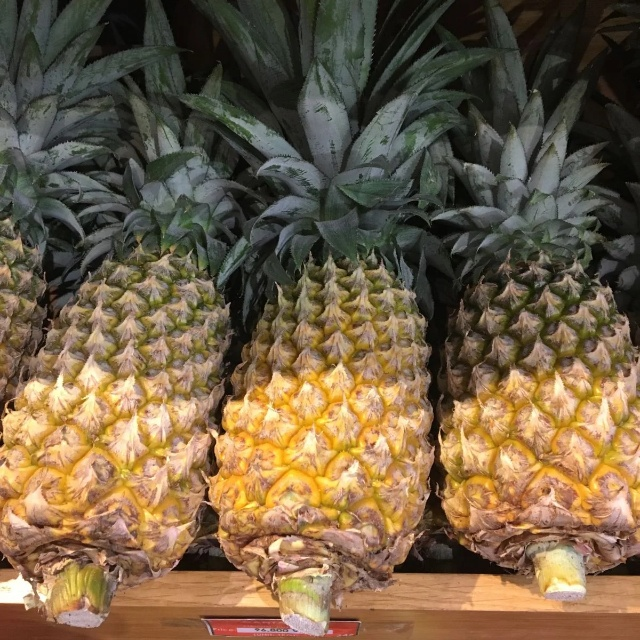thom: (214, 214, 436, 606), (431, 199, 640, 586), (6, 216, 224, 587)
